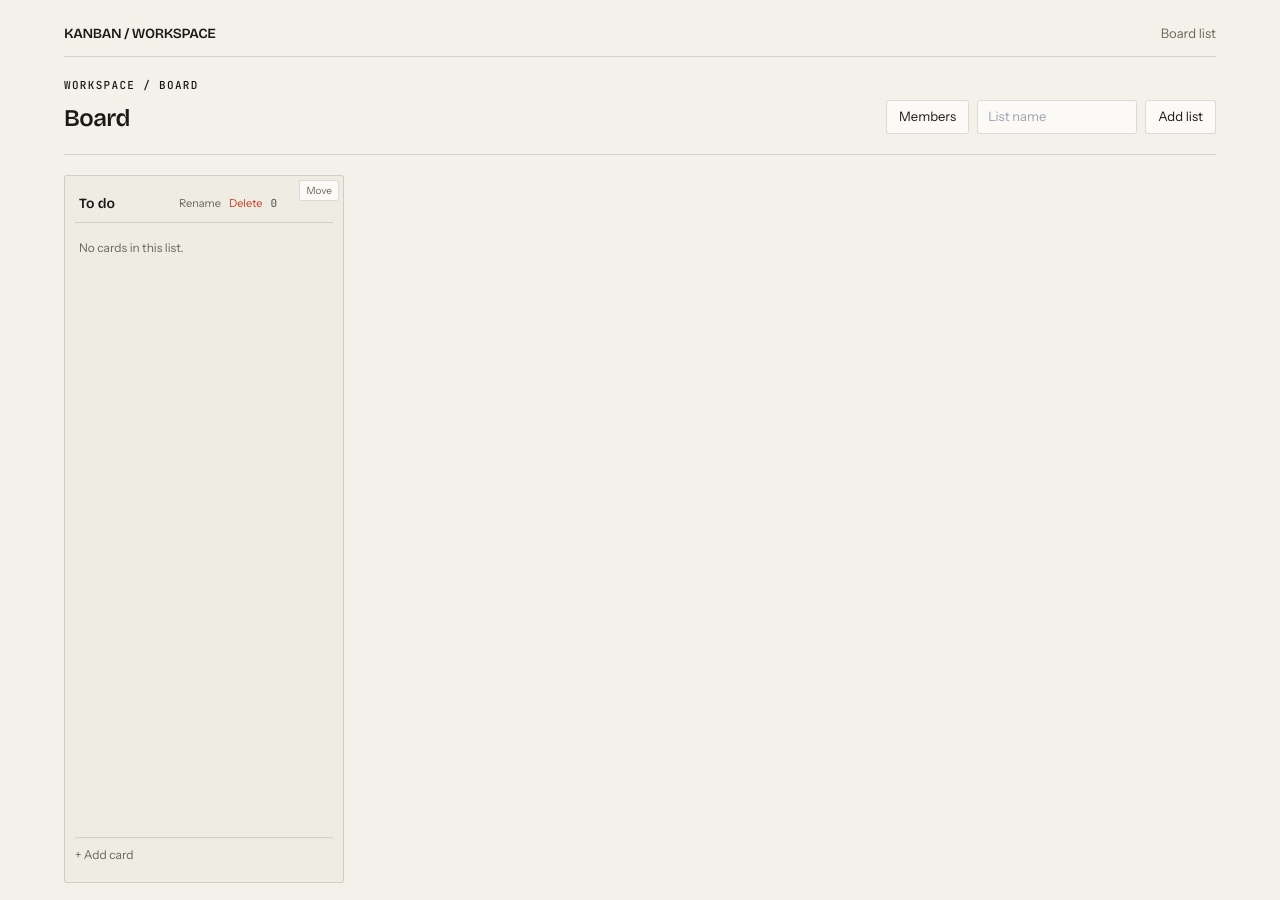
Test case: client flows › creates a card from the inline composer
Click the button "+ Add card" at (204, 854), box [75,836,333,872]
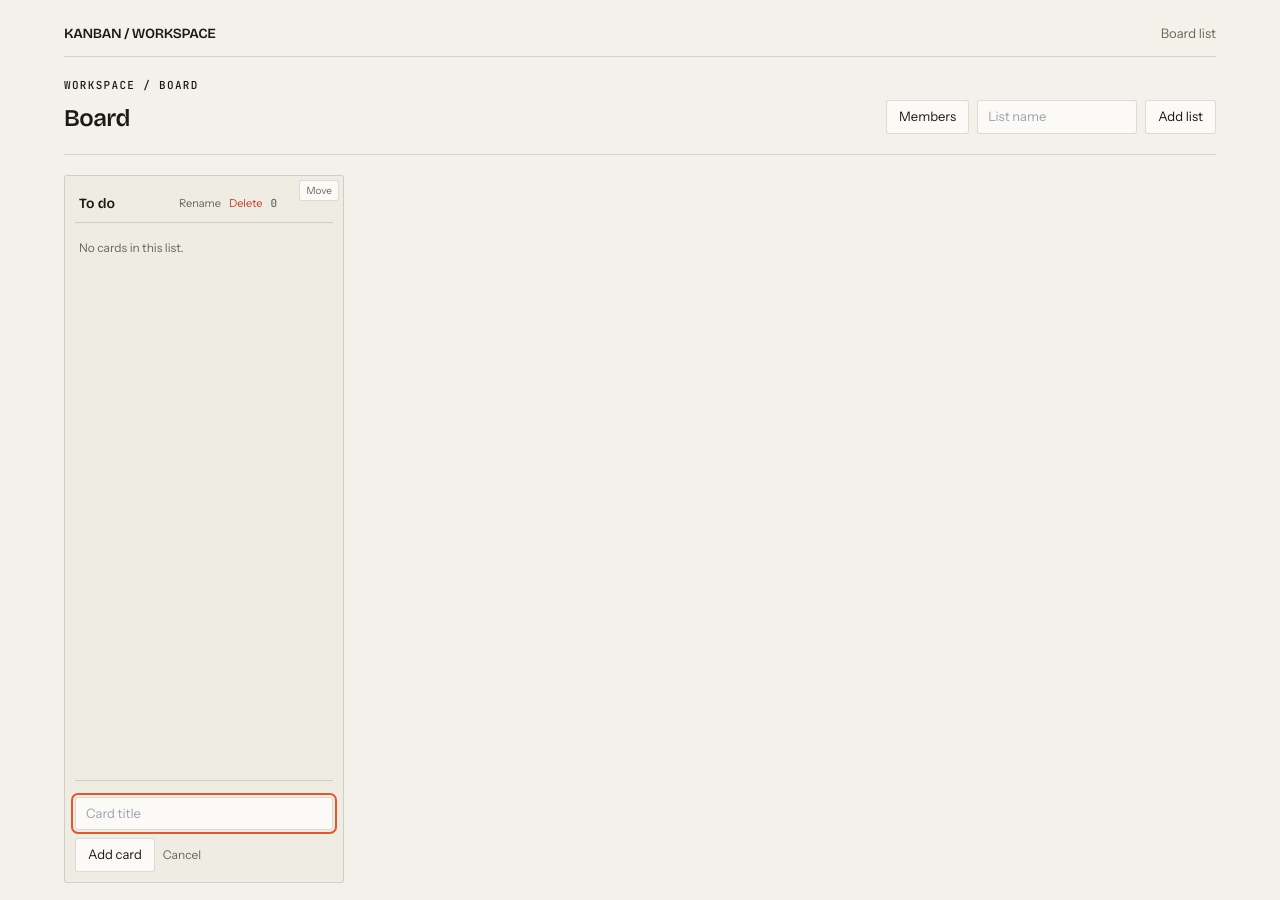
Type "Draft task" into the field labelled "Card title" at (204, 813), box [75,796,333,830]
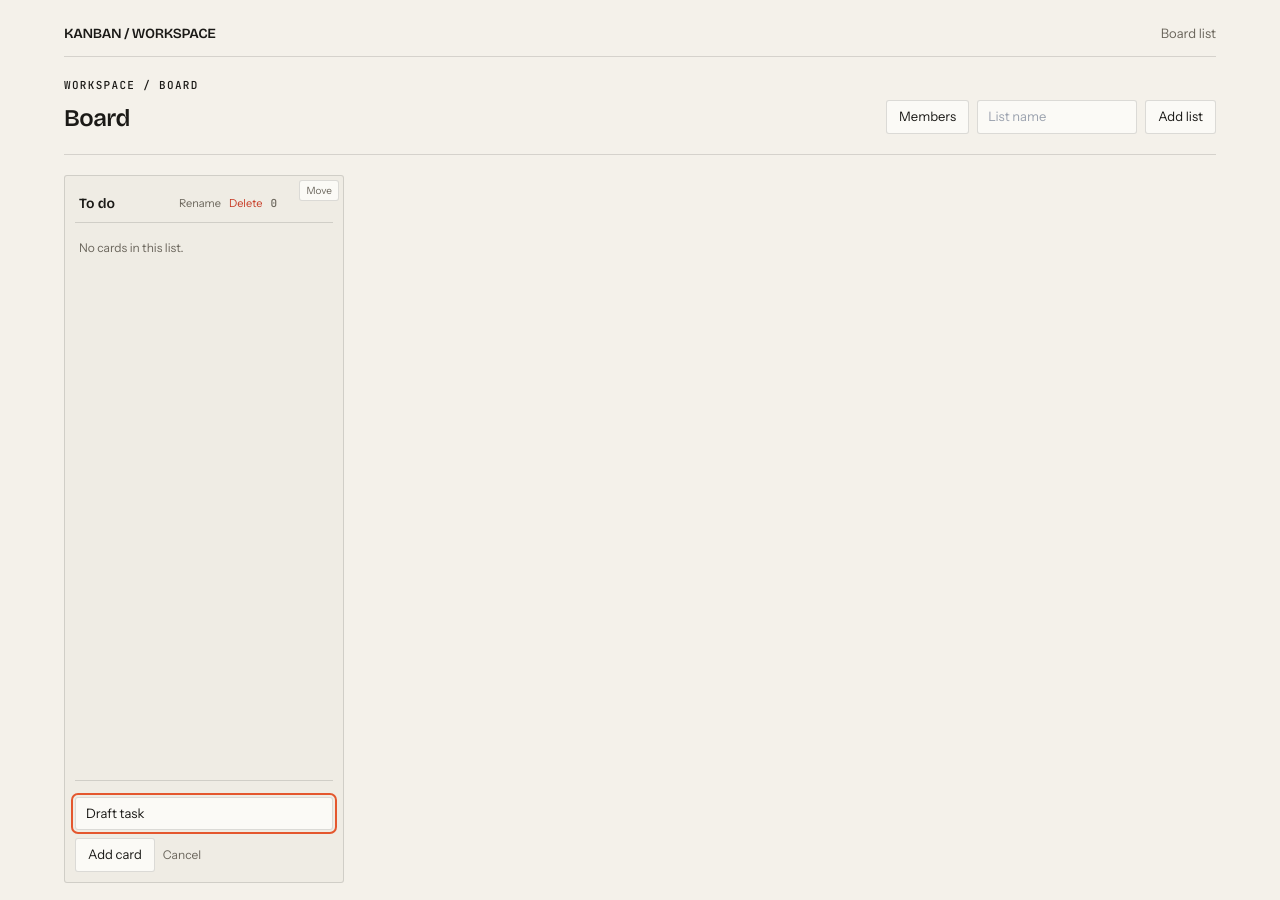
Click the button "Add card" at (115, 855), box [75,838,155,872]
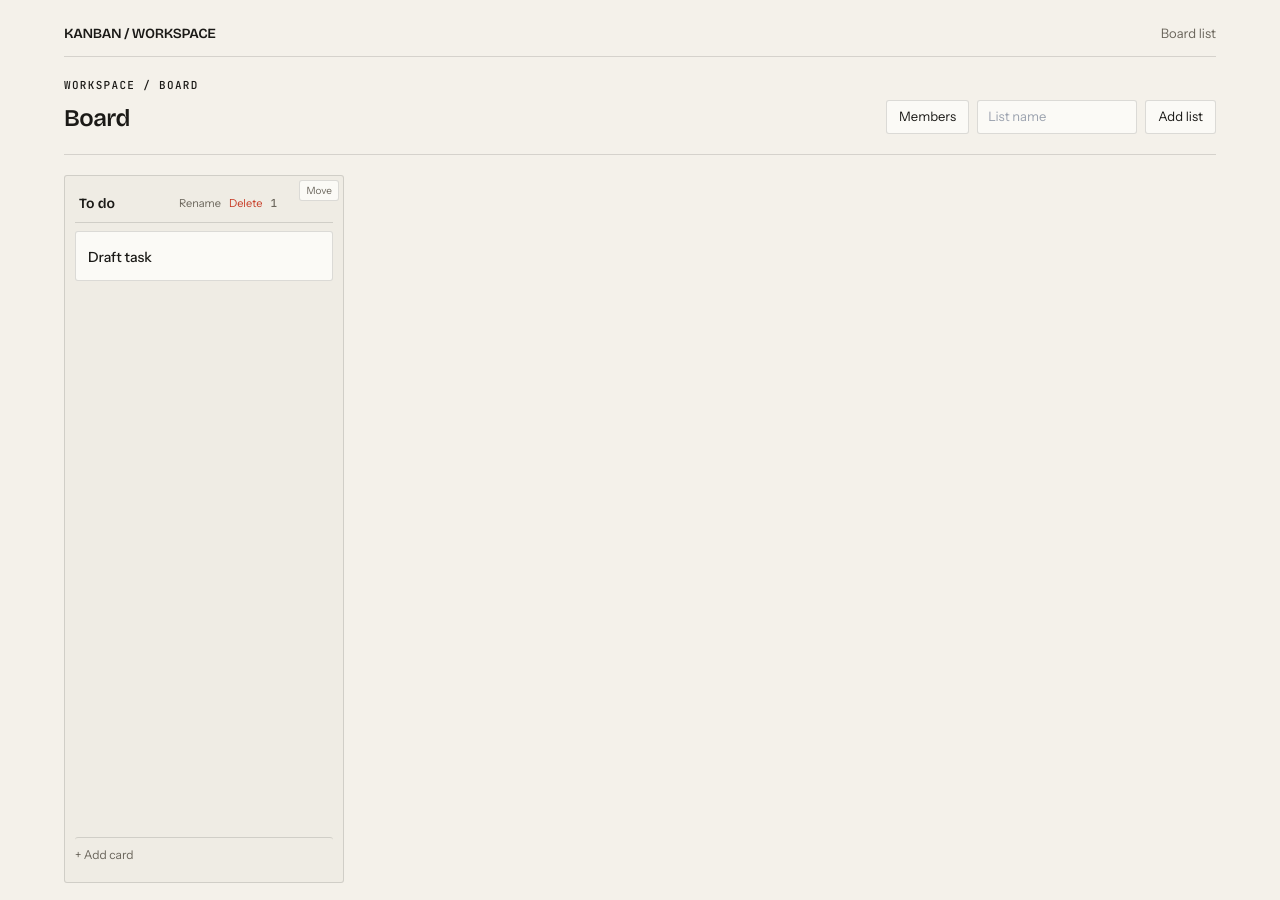
expect the text "Draft task" is shown: met, box [88,248,152,266]
